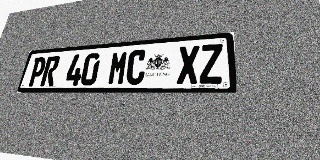0: (79, 53, 101, 86)
4: (64, 54, 86, 86)
C: (125, 49, 147, 85)
M: (107, 51, 129, 85)
P: (27, 57, 48, 86)
R: (40, 56, 61, 86)
X: (177, 45, 199, 84)
Z: (200, 43, 223, 84)
